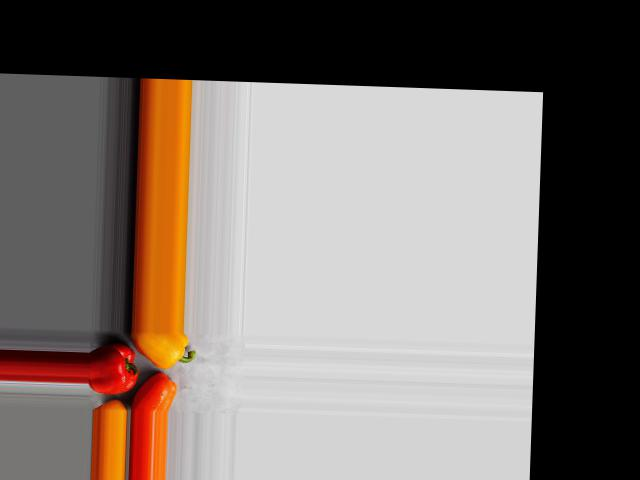bell_pepper: (88, 339, 139, 395)
